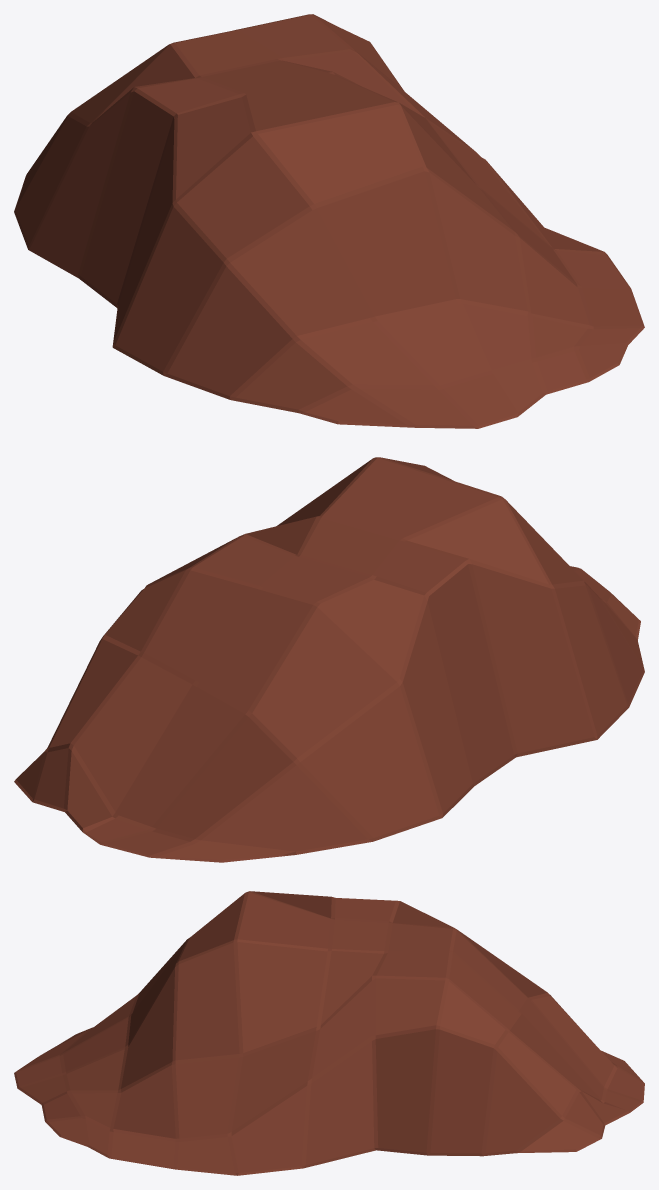
File: Dirt_Pile_Simple_001.FBX
3 views of the same model, one above another, from view 1: azimuth 30°, elevation 25°; view 2: azimuth 150°, elevation 25°; view 3: azimuth 270°, elevation 25° (orthographic). The views are drawn at different scales.
Visible parts, largest first — view 1: Dirt_Pile_Main; view 2: Dirt_Pile_Main; view 3: Dirt_Pile_Main.
Boxes of the visible parts, box(x1,y1,x2,y2) form: Dirt_Pile_Main: box(14, 14, 644, 428); Dirt_Pile_Main: box(14, 457, 644, 862); Dirt_Pile_Main: box(14, 891, 644, 1175).
Size of the model in its own units: 1210 by 508 by 1852.
